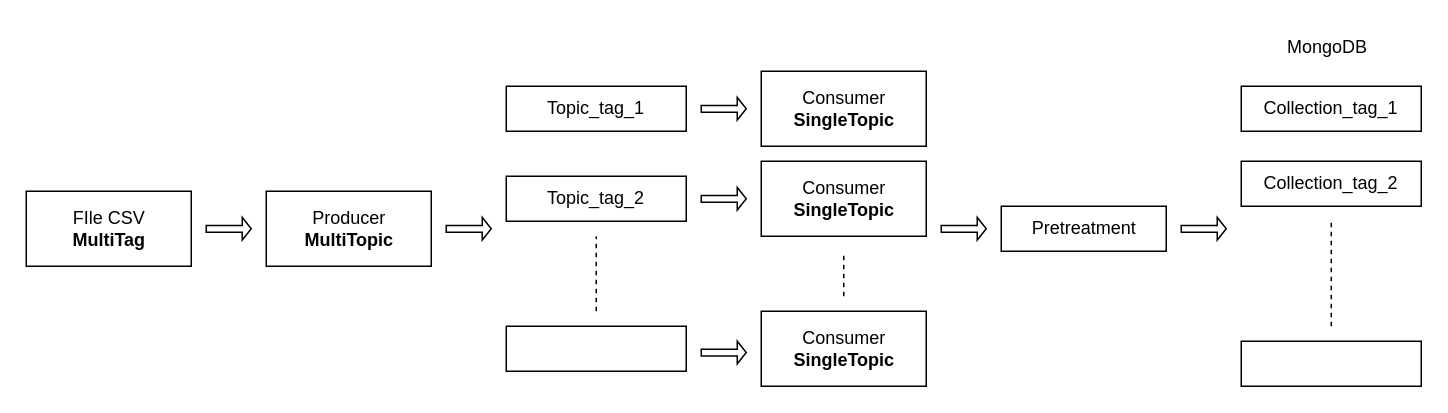
Image size: 1448x413. Some labels were removed from this diagram. The shapes that lost their labels are listed below. From the top down, each one's centre as x and y in pixels, then its label:
(595,348): Topic_tag_n
(1330,363): Collection_tag_n
